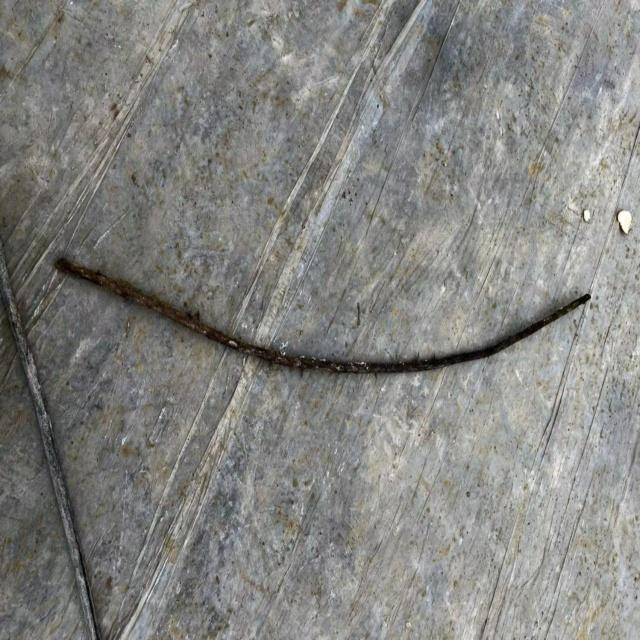branch: (53, 256, 587, 376)
